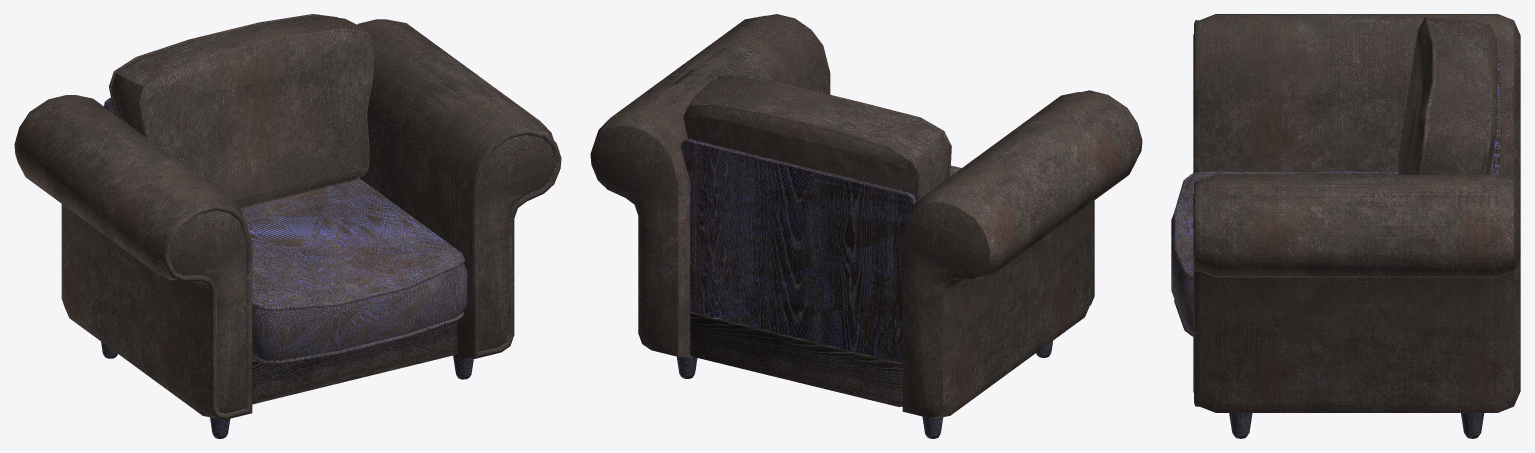
The model's file is poltrona_couro.dae.
3 renders of one model, left to right at view 1: azimuth 30°, elevation 25°; view 2: azimuth 150°, elevation 25°; view 3: azimuth 270°, elevation 25°, orthographic. The views are drawn at different scales.
Parts seen in each view (by area): view 1: group_0 (×5); view 2: group_0 (×5); view 3: group_0 (×7).
Boxes of the visible parts, bbox=[...] form: group_0 (×5): bbox=[14, 14, 561, 419]; group_0 (×5): bbox=[590, 14, 1142, 418]; group_0 (×7): bbox=[1171, 14, 1520, 438].
Size of the model in its own units: 53.01 by 37.31 by 36.87.
